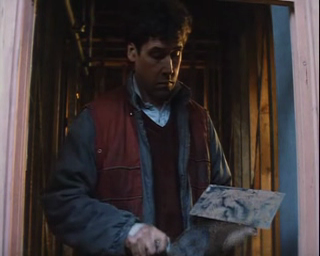face: (142, 42, 183, 98)
ms: (1, 1, 320, 256)
person: (44, 1, 256, 255)
